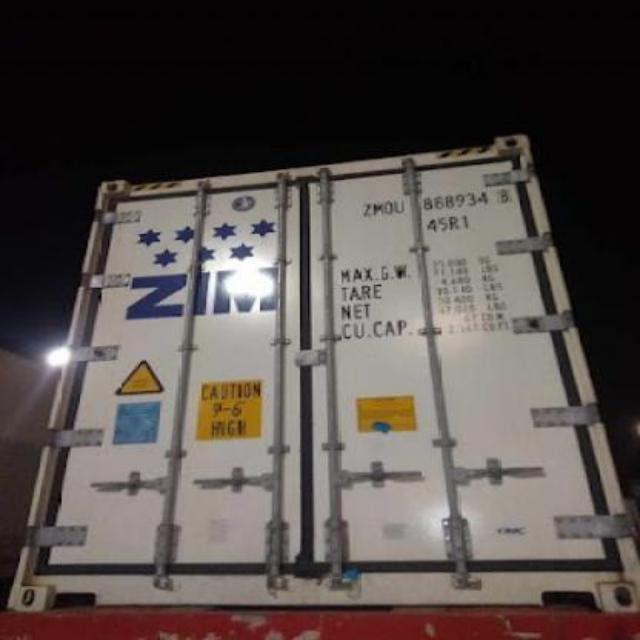3: (464, 191, 478, 207)
4: (472, 188, 490, 206)
8: (444, 193, 456, 211), (422, 198, 434, 212), (498, 188, 510, 202), (434, 197, 444, 210)
9: (454, 192, 466, 210)
M: (374, 200, 384, 216)
O: (384, 200, 394, 216)
U: (392, 200, 406, 216)
Z: (364, 202, 372, 218)
